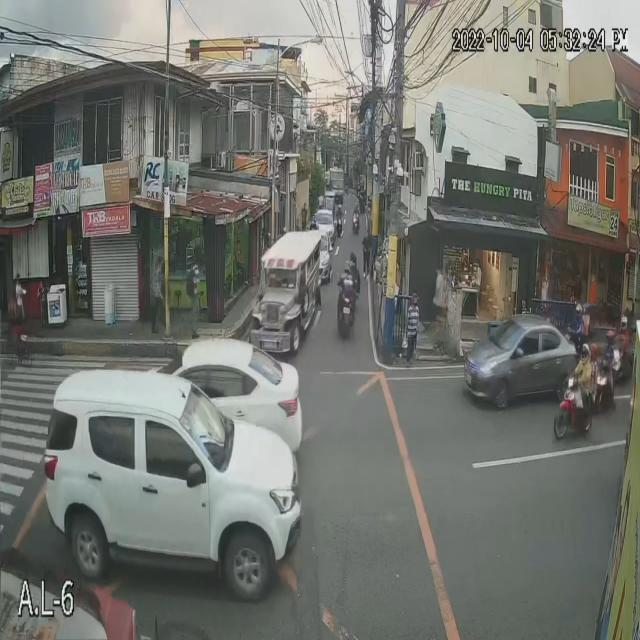full: (579, 340, 591, 364), (574, 301, 583, 322), (620, 314, 628, 332)
